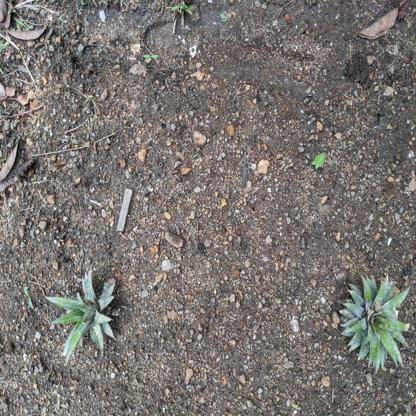pineapple: (44, 267, 119, 367), (339, 273, 410, 374)
